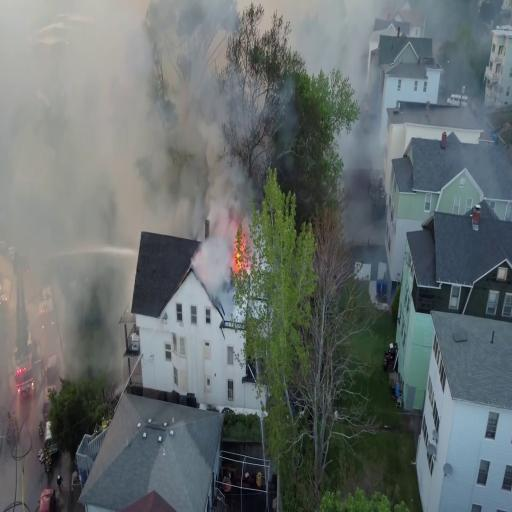smoke: (201, 194, 237, 281)
